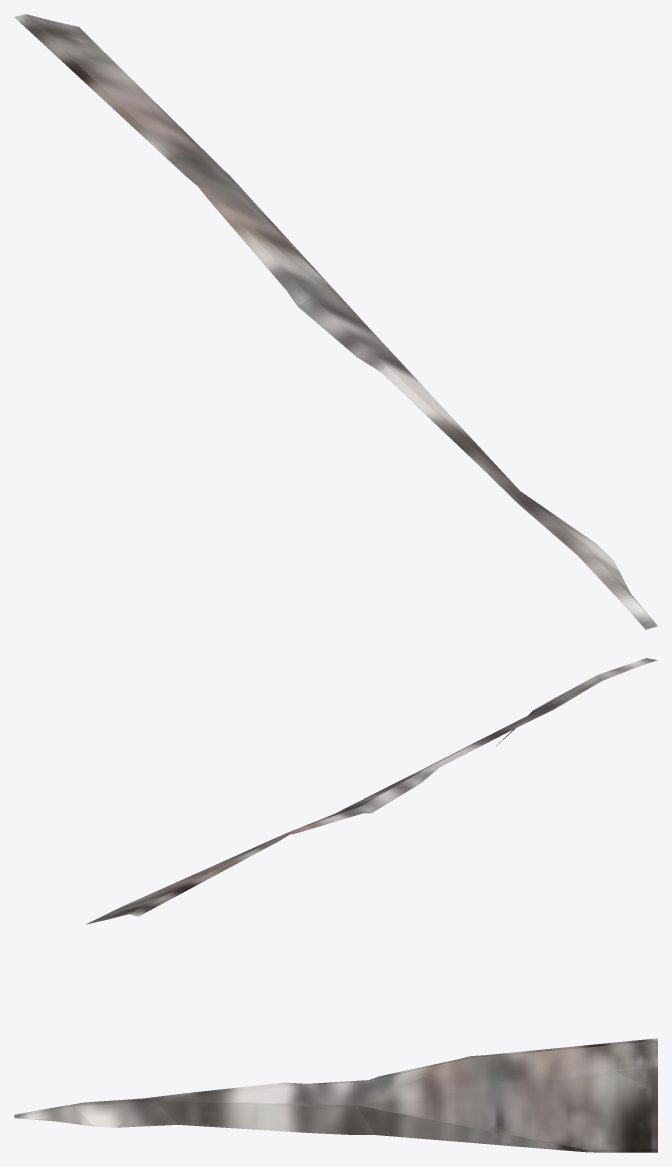
3 views of the same model, one above another, from view 1: azimuth 30°, elevation 25°; view 2: azimuth 150°, elevation 25°; view 3: azimuth 270°, elevation 25° (orthographic). The views are drawn at different scales.
Size of the model in its own units: 0.1278 by 0.1213 by 0.923.
1 material, 1 textured.
